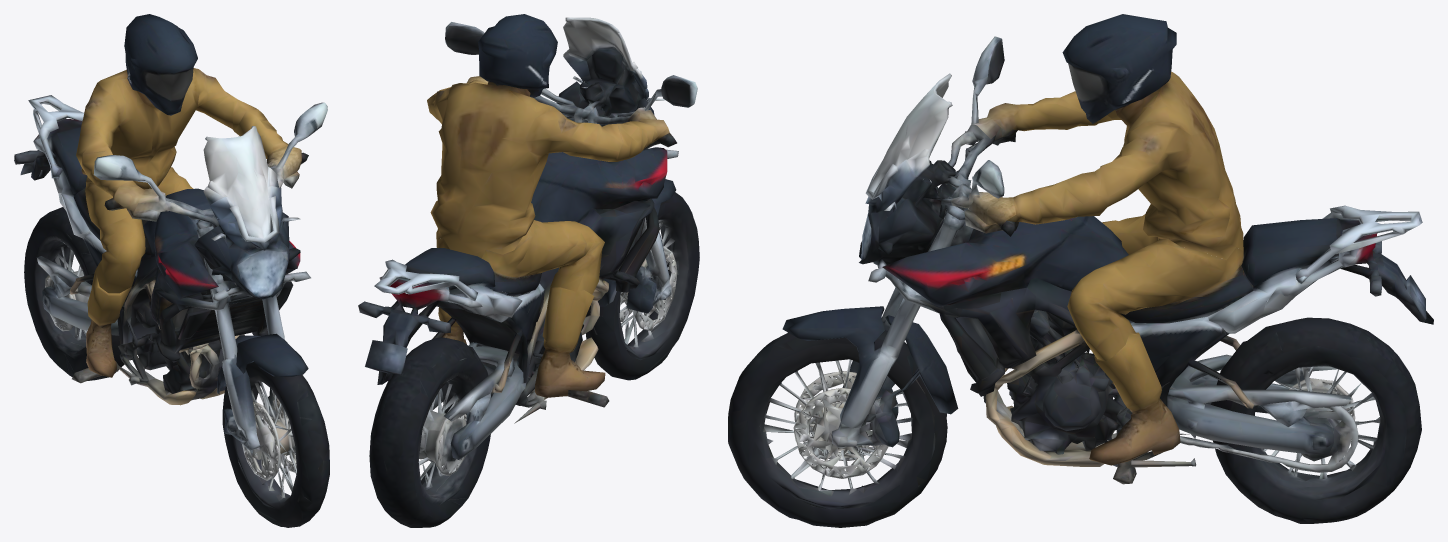
The model's file is adventure-motorcycle.glb.
The picture shows the model from 3 angles, left to right: view 1: azimuth 30°, elevation 25°; view 2: azimuth 150°, elevation 25°; view 3: azimuth 270°, elevation 25°; orthographic projection. The views are drawn at different scales.
Parts seen in each view (by area): view 1: body, wheel_front_mesh, wheel_rear_mesh; view 2: body, wheel_rear_mesh, wheel_front_mesh; view 3: body, wheel_front_mesh, wheel_rear_mesh.
Boxes of the visible parts, x1=… form: body: x1=14, y1=14, x2=327, y2=450; wheel_front_mesh: x1=222, y1=362, x2=329, y2=527; wheel_rear_mesh: x1=24, y1=207, x2=124, y2=380; body: x1=358, y1=14, x2=697, y2=475; wheel_rear_mesh: x1=369, y1=337, x2=492, y2=527; wheel_front_mesh: x1=585, y1=192, x2=699, y2=380; body: x1=782, y1=14, x2=1433, y2=484; wheel_front_mesh: x1=728, y1=330, x2=947, y2=527; wheel_rear_mesh: x1=1211, y1=317, x2=1421, y2=523.
Bounding box in the file's own units: 1.07 × 1.83 × 2.3.
1 material, 1 textured.
